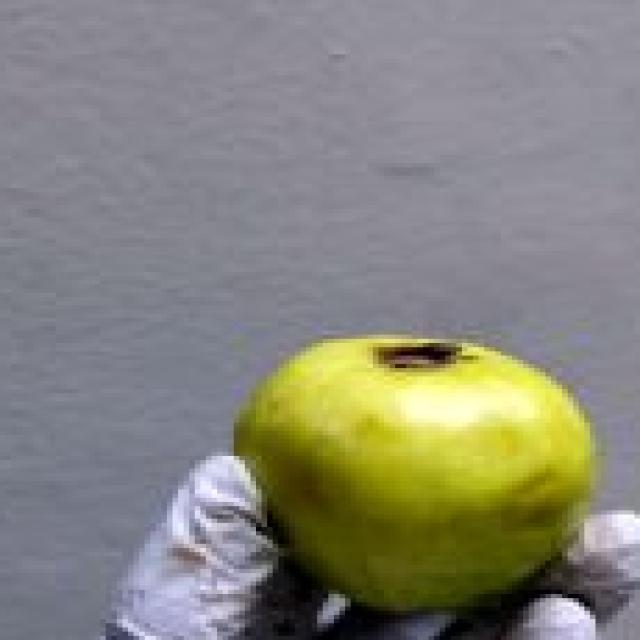Good_Guava 5-7 days: (121, 335, 640, 640)
